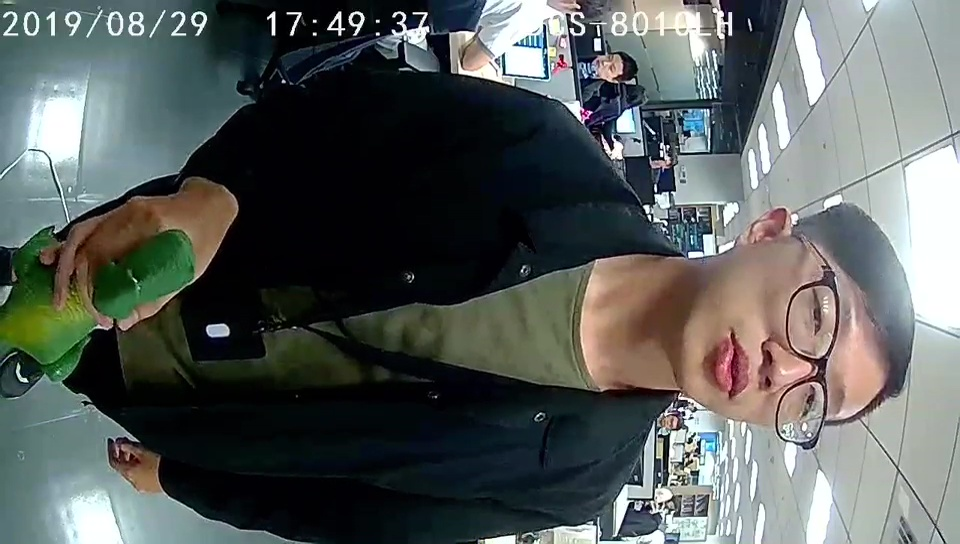rex: (2, 224, 199, 385)
